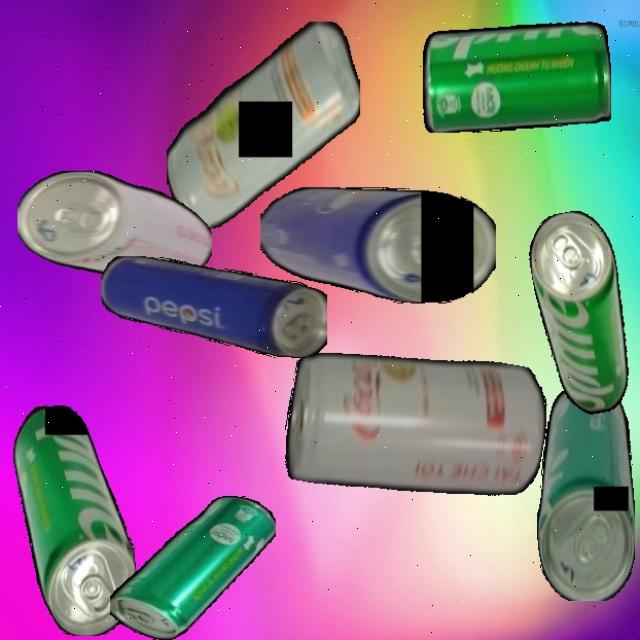debris: (276, 328, 556, 521), (166, 20, 360, 228), (12, 403, 136, 636), (259, 187, 496, 304), (522, 206, 640, 421), (109, 496, 276, 640), (100, 256, 327, 358), (536, 382, 635, 601), (17, 170, 212, 279), (422, 21, 611, 132)
